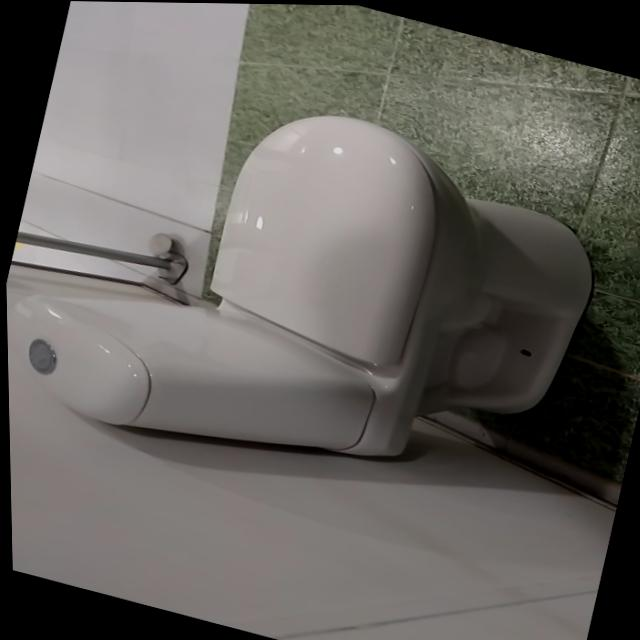toilet: (1, 35, 631, 544)
